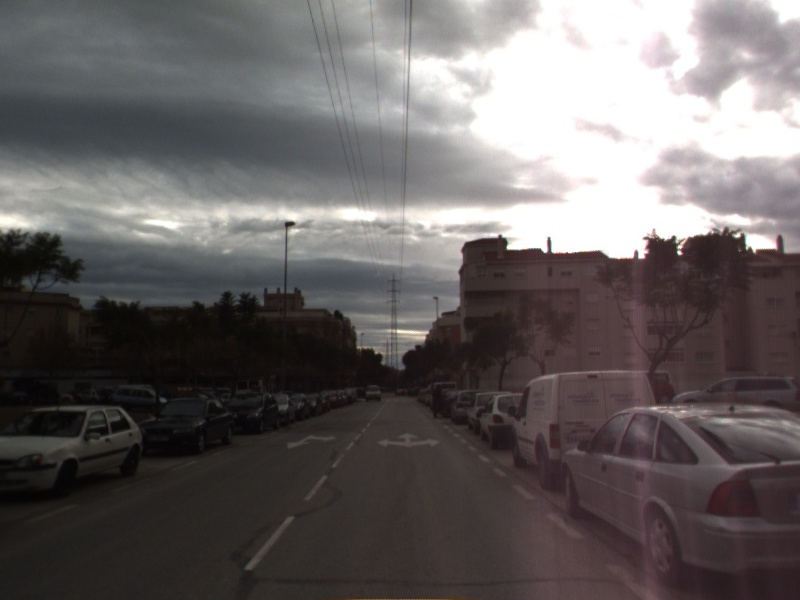STRAIGHT_LEFT_RIGHT: (375, 430, 442, 450)
